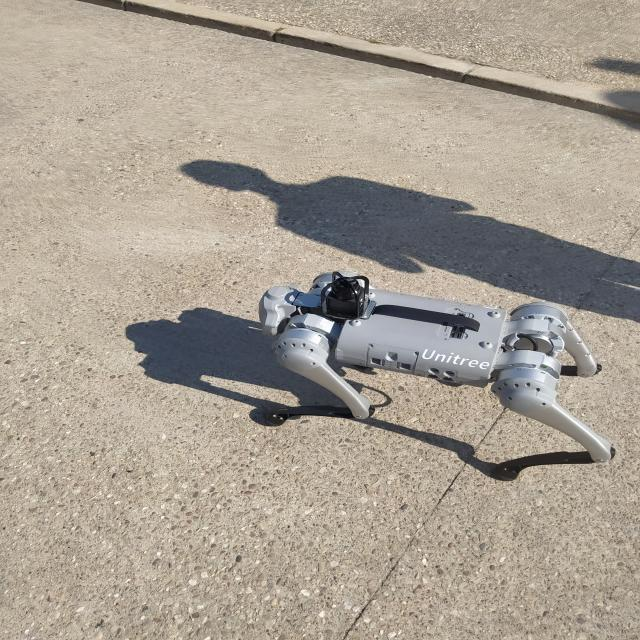unitree-go1-robot: (231, 254, 640, 487)
